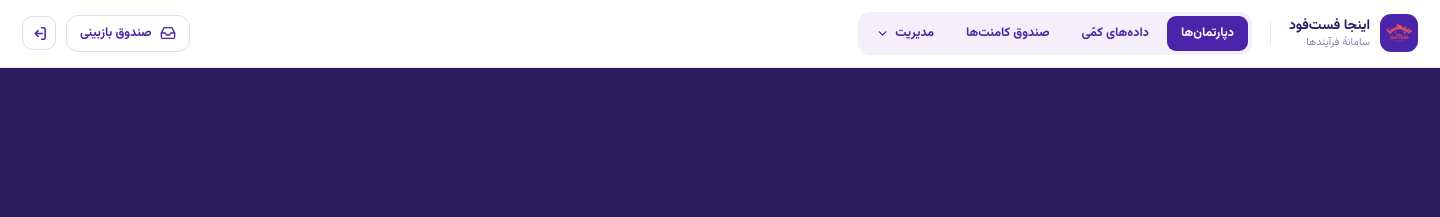
the policy entry in the panel header › is drawn for a holder of set_visibility
Click the button "مدیریت": [905, 33] box [862,16,948,51]
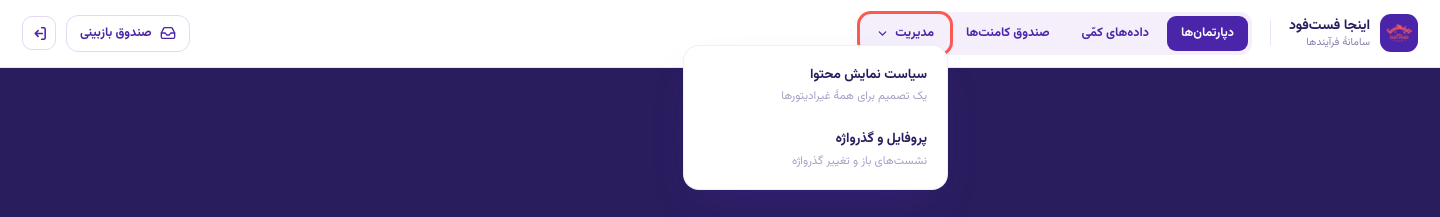
Expected: the menu item "سیاست نمایش محتوا یک تصمیم برای همهٔ غیرادیتورها" is shown, [781,64,927,105]
